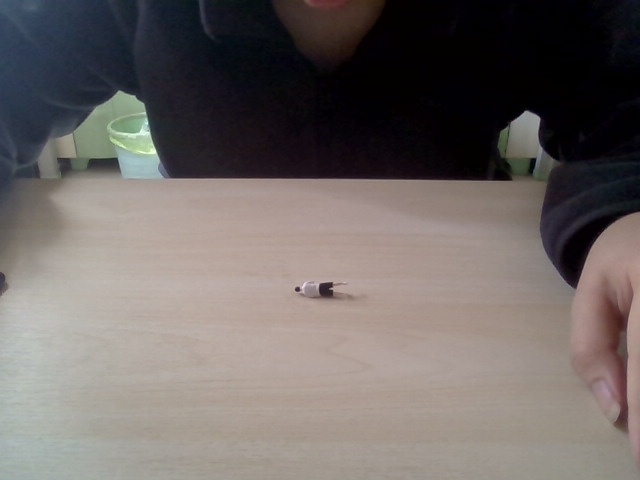fall: (286, 274, 355, 303)
